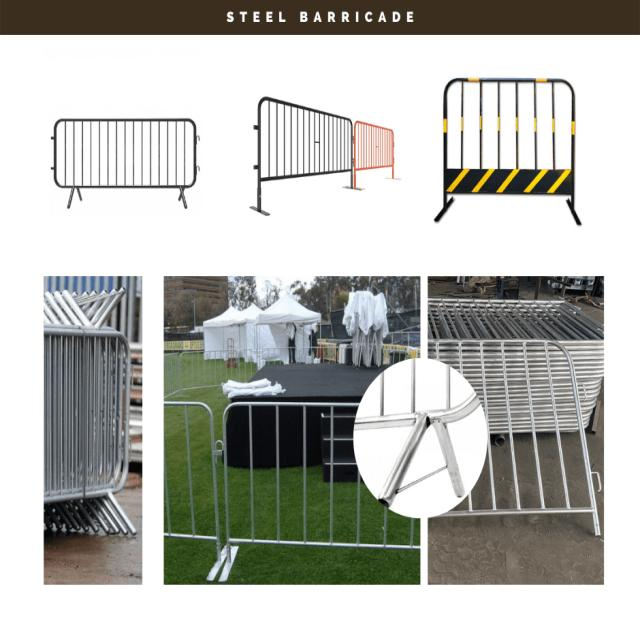cone: (432, 74, 584, 227), (249, 94, 401, 217), (51, 115, 200, 211)
